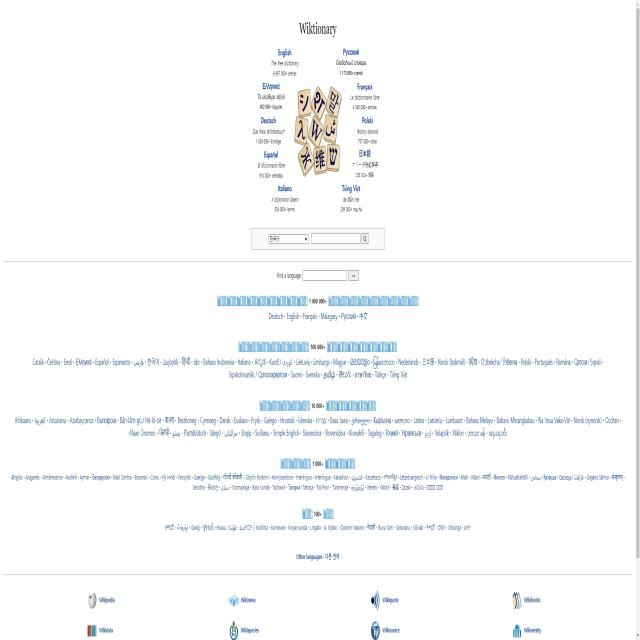search: (310, 230, 369, 244), (299, 269, 360, 280)
